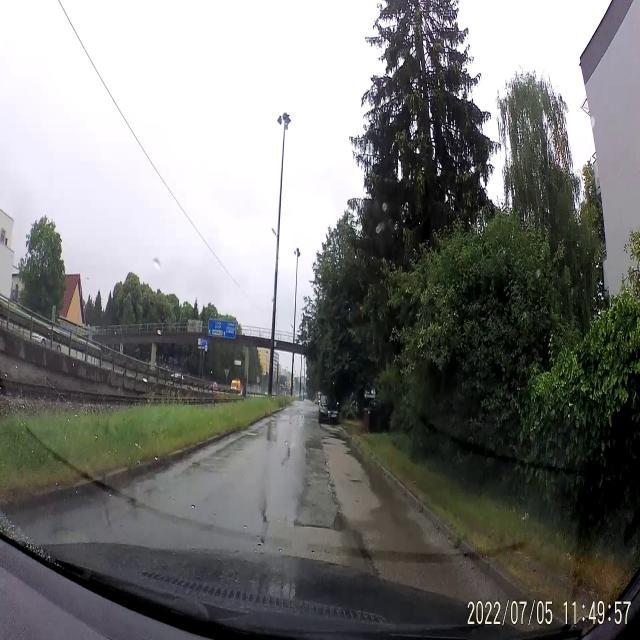Pothole: (292, 517, 328, 536), (347, 470, 362, 490)
